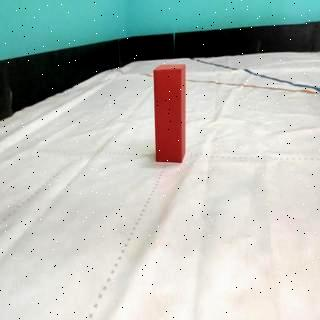redbox: (152, 64, 186, 163)
